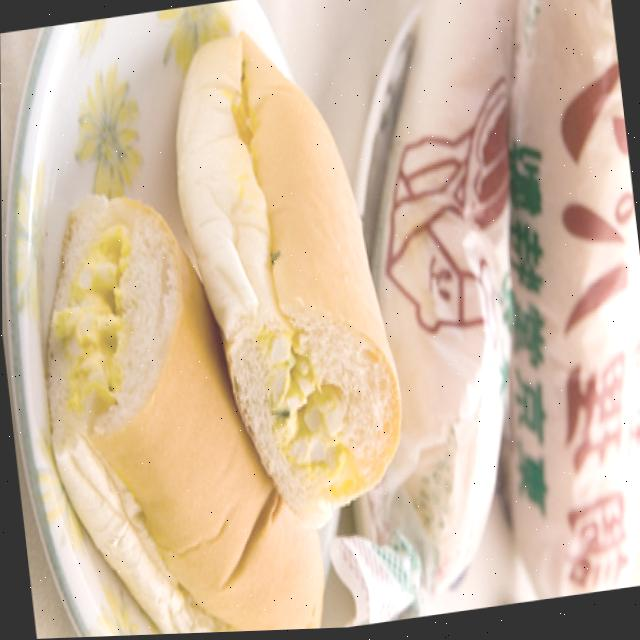三明治: (2, 0, 444, 640)
